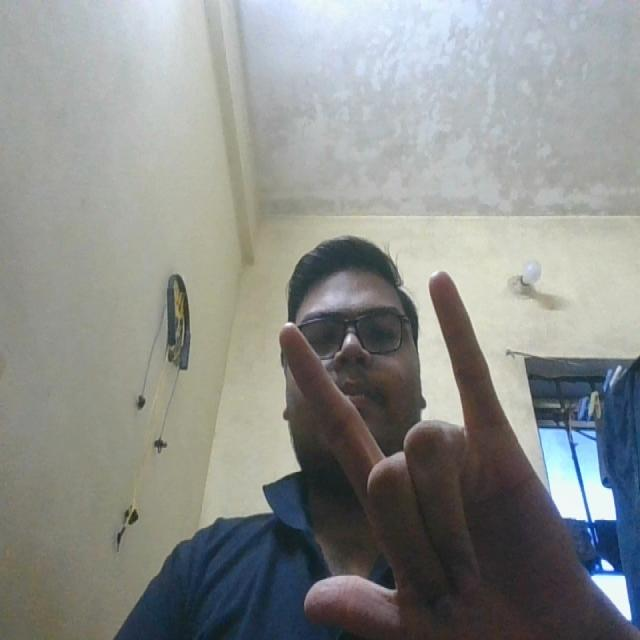iloveyou: (270, 265, 554, 640)
